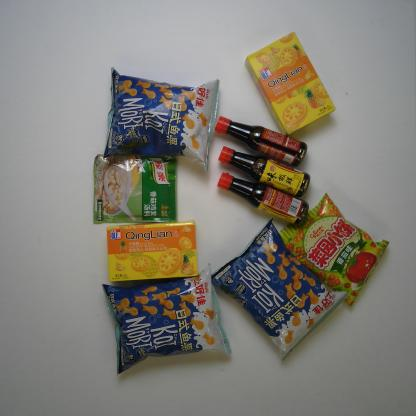Dessert: (245, 32, 336, 136), (106, 219, 198, 282)
Puffed Food: (206, 217, 349, 361), (101, 264, 232, 376), (274, 193, 389, 307), (103, 66, 220, 172)
Seasoner: (93, 154, 178, 224), (214, 116, 308, 168), (217, 173, 309, 226), (218, 146, 310, 197)
